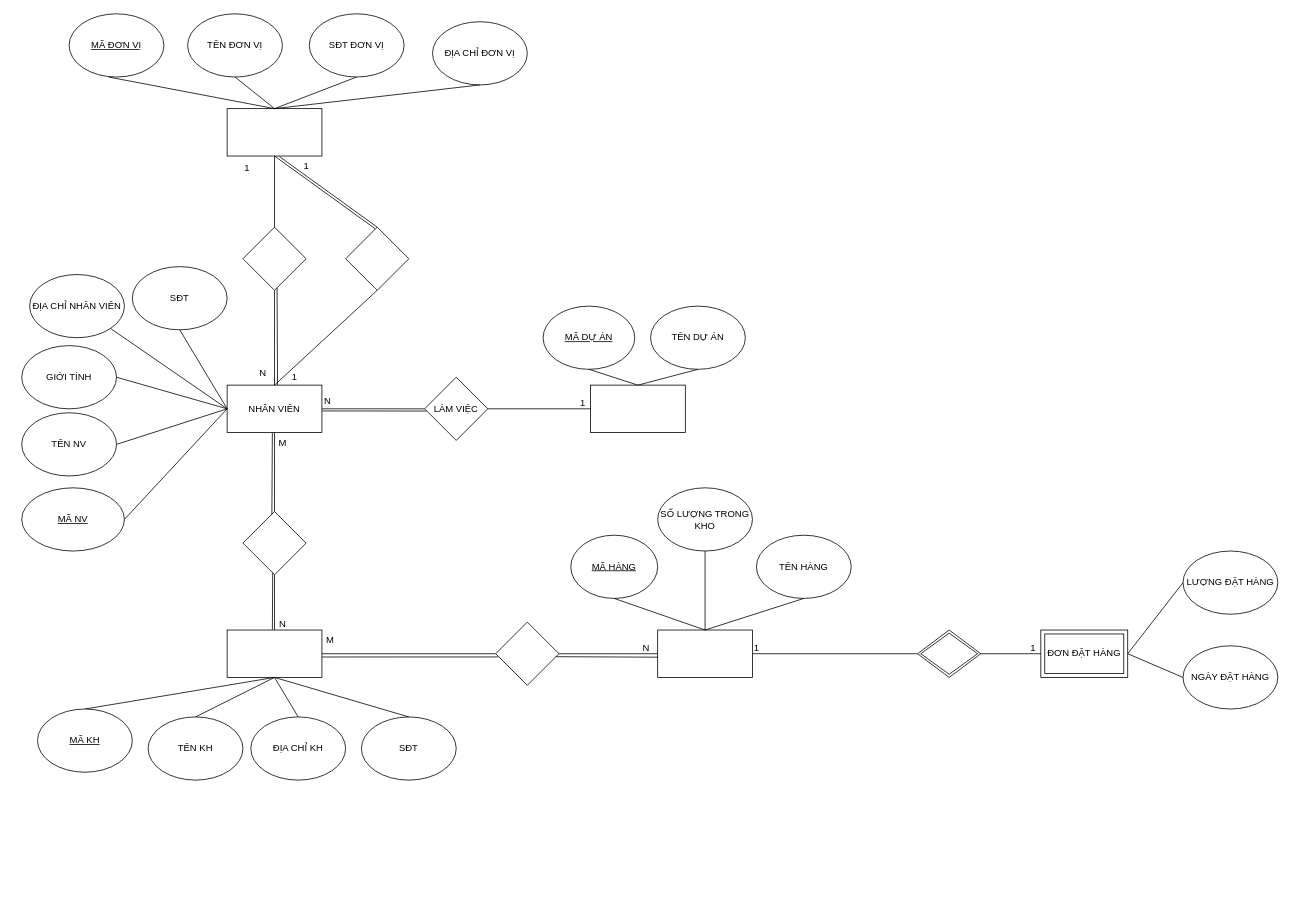
Some shapes in this 1292 by 920 pixel diagram are drawn without their labels. The centre of each missing label's shape, as x and y in pixels:
"CÓ" goes at point 949,653.
"DỰ ÁN" goes at point 637,408.
"HÀNG" goes at point 704,653.
"KHÁCH HÀNG" goes at point 274,653.
"PHỤC VỤ" goes at point 274,543.
"QUẢN LÝ" goes at point 377,258.
"THUÊ" goes at point 274,258.
"ĐƠN VỊ" goes at point 274,132.
"ĐẶT" goes at point 527,653.
